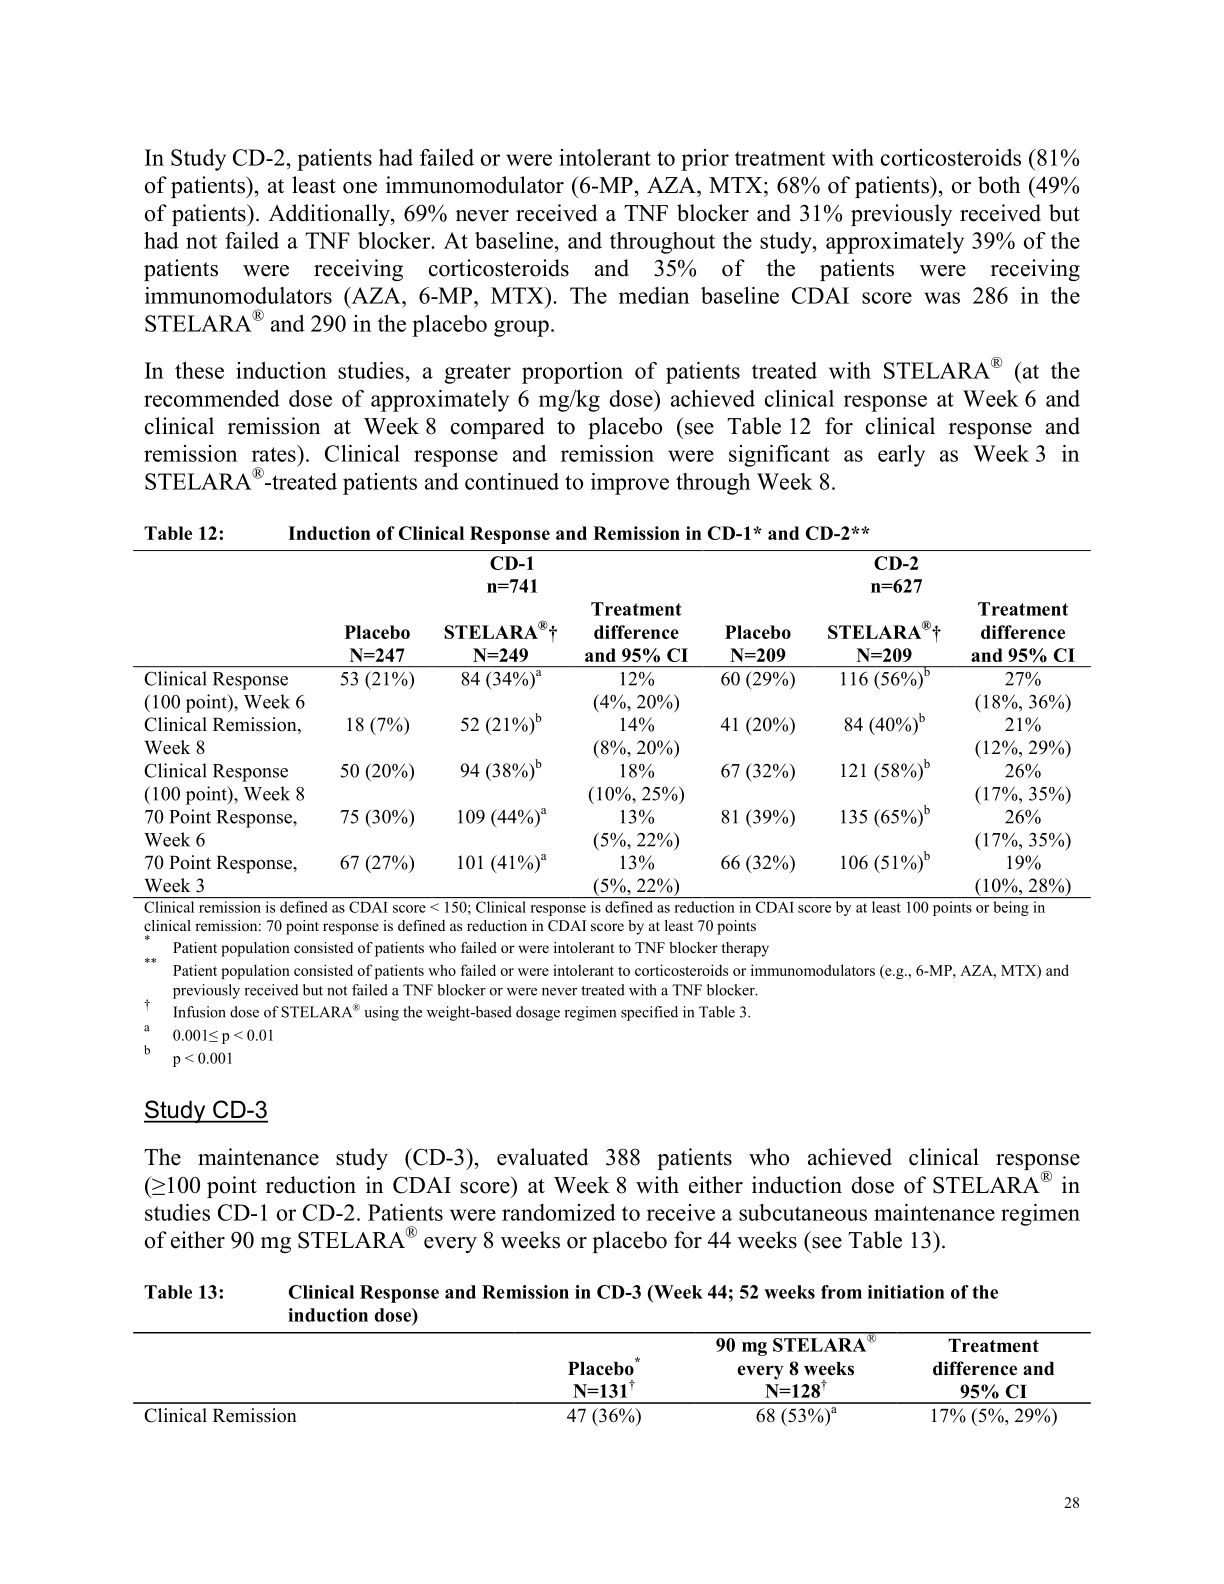partial_lined: (132, 1331, 1092, 1431)
partial_lined_merged_cells: (132, 549, 1090, 899)
